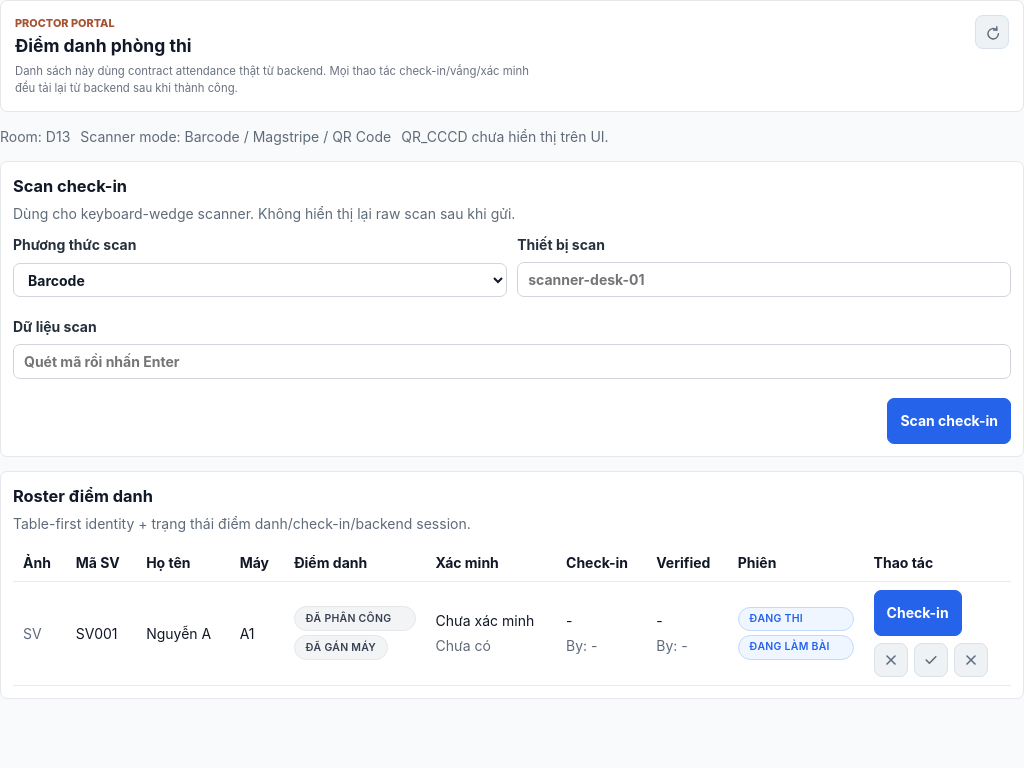
Test: Phase 2B proctor pages › verify identity success refreshes attendance list
The image size is (1024, 768).
Expected: the text "SV001" is shown, top-left (66, 581), bottom-right (136, 685)
Click the button named "Xác minh danh tính" at (931, 660), box top-left (914, 642), bottom-right (948, 676)
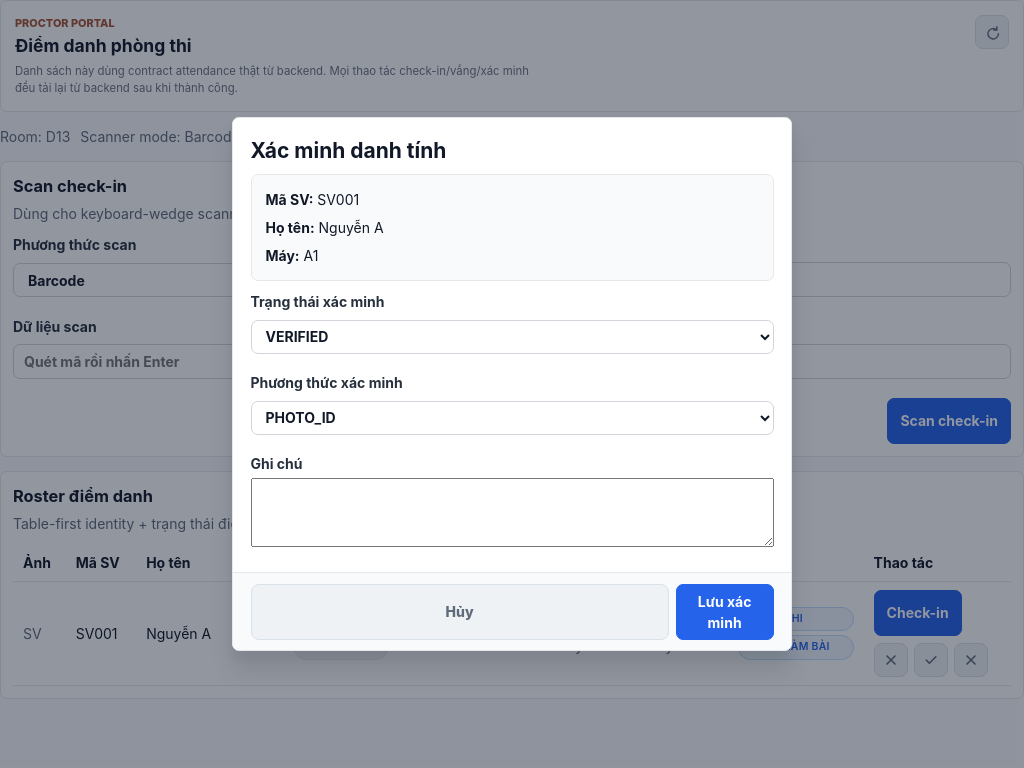
Select "REJECTED" in the dropdown labelled "Trạng thái xác minh" at (512, 337), box top-left (250, 320), bottom-right (774, 354)
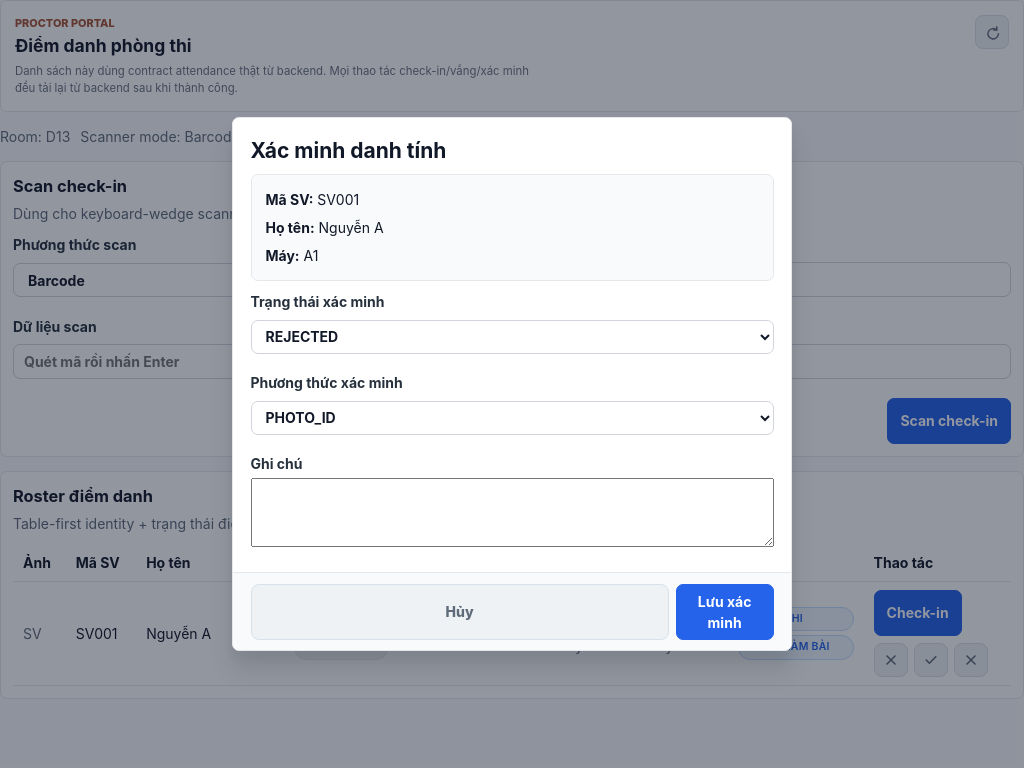
Select "MANUAL" in the dropdown labelled "Phương thức xác minh" at (512, 418), box top-left (250, 401), bottom-right (774, 435)
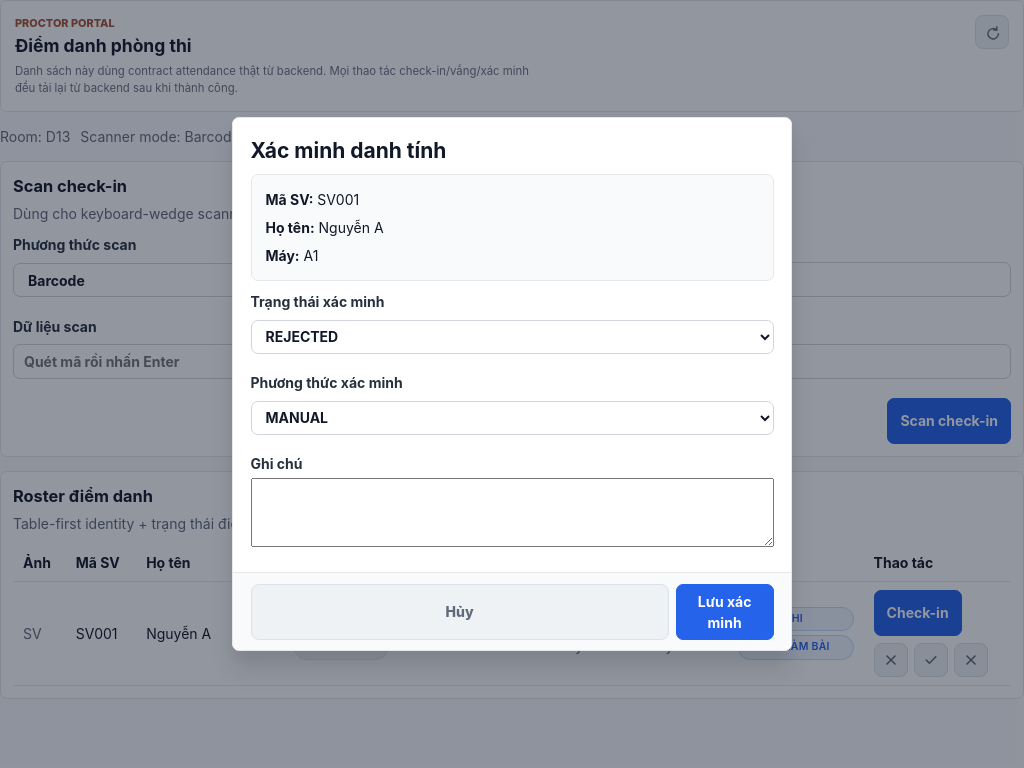
Type "Không khớp" into the text box labelled "Ghi chú" at (512, 512), box top-left (250, 478), bottom-right (774, 547)
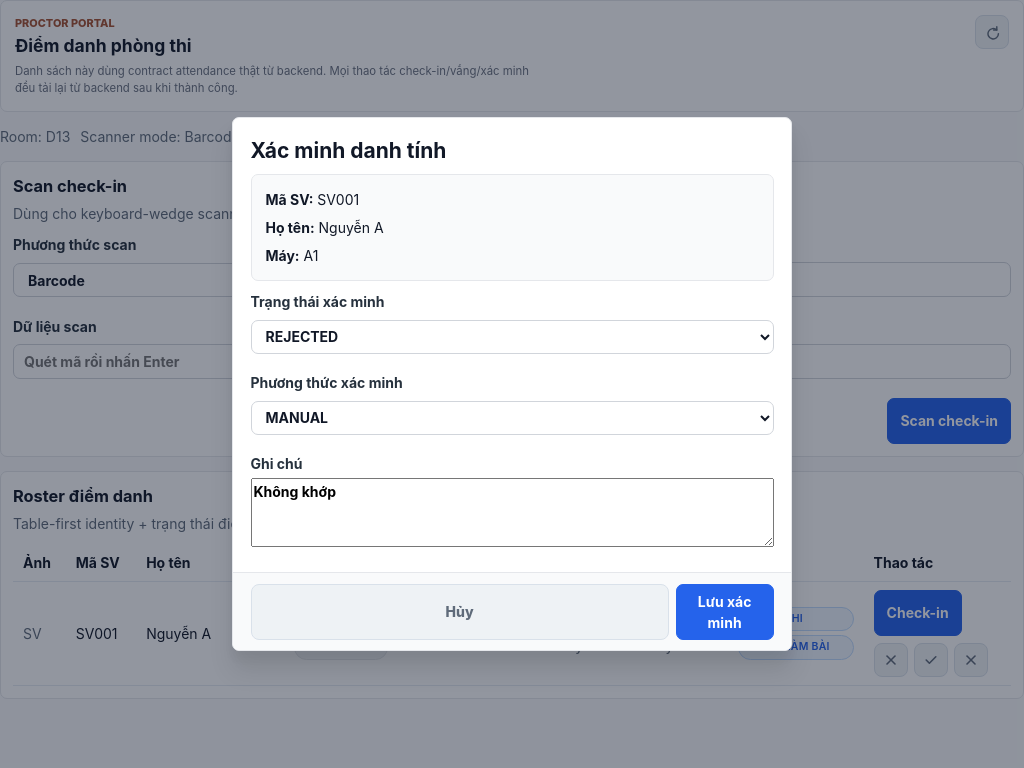
Click the button "Lưu xác minh" at (725, 612), box top-left (676, 584), bottom-right (774, 640)
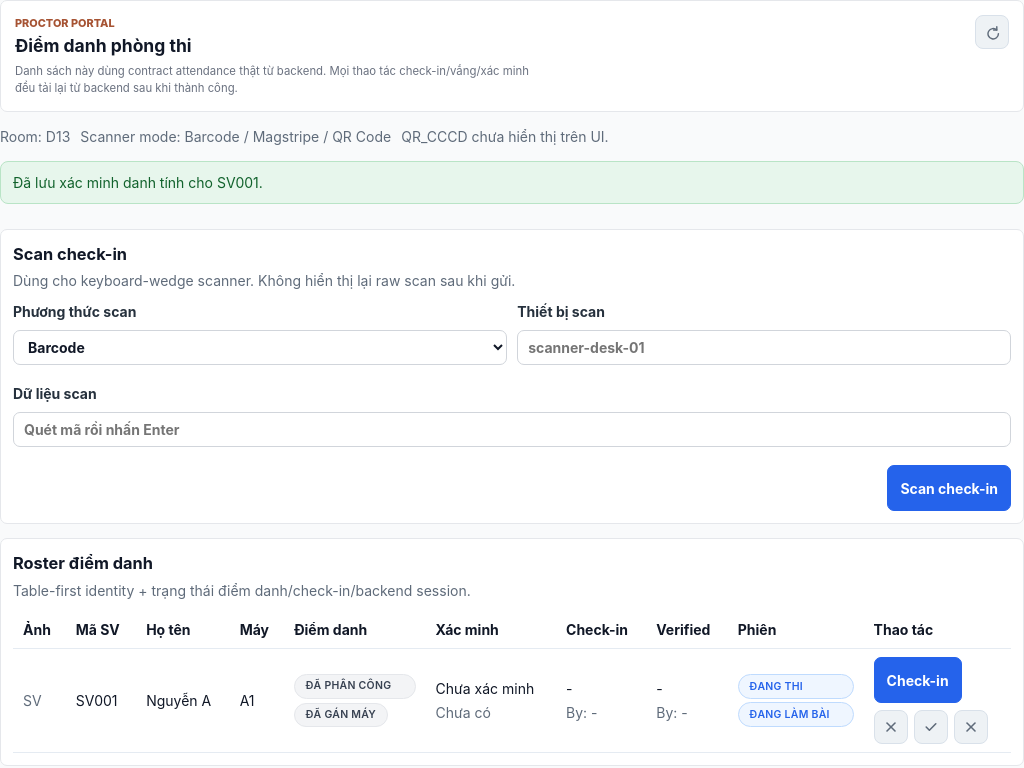
Now the text "Đã lưu xác minh danh tính cho SV001." is shown, box top-left (0, 161), bottom-right (1023, 204)
